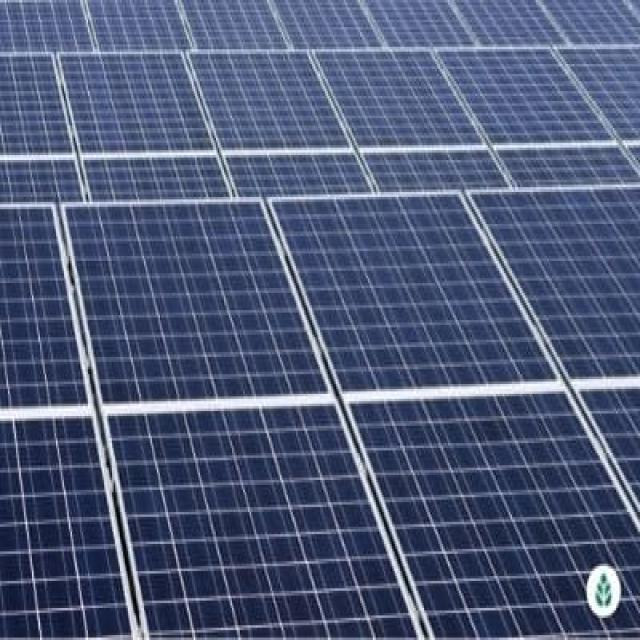clean-solar-panel: (1, 0, 91, 50)
